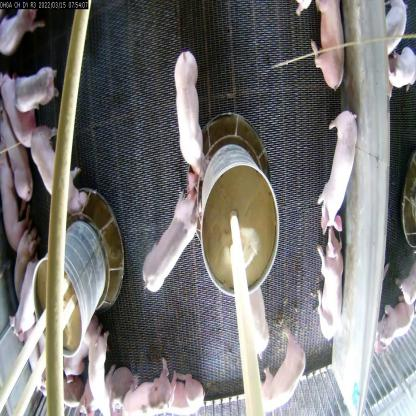Pig: (143, 192, 200, 304), (248, 332, 316, 416), (316, 109, 357, 240), (168, 47, 210, 174), (295, 0, 357, 85), (26, 122, 82, 212), (312, 212, 349, 346), (9, 258, 48, 346), (236, 269, 272, 363), (115, 361, 171, 416), (0, 113, 33, 202), (11, 59, 58, 121), (150, 372, 207, 416), (0, 151, 25, 234)
